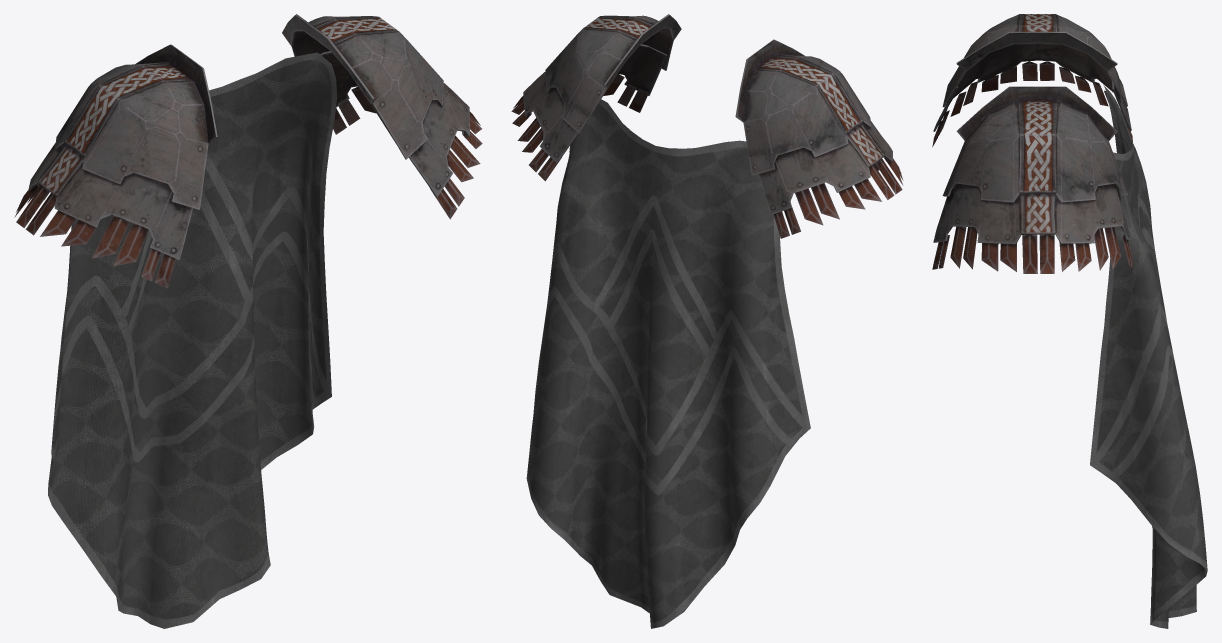
The model's file is sk_dwarf_iron_pauldron_elite_cape_a.fbx.
3 renders of one model, left to right at view 1: azimuth 30°, elevation 25°; view 2: azimuth 150°, elevation 25°; view 3: azimuth 270°, elevation 25°, orthographic. The views are drawn at different scales.
Parts seen in each view (by area): view 1: sk_dwarf_iron_pauldron_elite_cape_a.cape, sk_dwarf_iron_pauldron_elite_cape_a; view 2: sk_dwarf_iron_pauldron_elite_cape_a.cape, sk_dwarf_iron_pauldron_elite_cape_a; view 3: sk_dwarf_iron_pauldron_elite_cape_a, sk_dwarf_iron_pauldron_elite_cape_a.cape.
Part boxes in pixels (x1,y1,x2,y2): sk_dwarf_iron_pauldron_elite_cape_a.cape: [48, 52, 337, 628]; sk_dwarf_iron_pauldron_elite_cape_a: [14, 14, 482, 288]; sk_dwarf_iron_pauldron_elite_cape_a.cape: [526, 99, 810, 628]; sk_dwarf_iron_pauldron_elite_cape_a: [511, 14, 903, 238]; sk_dwarf_iron_pauldron_elite_cape_a: [932, 14, 1132, 273]; sk_dwarf_iron_pauldron_elite_cape_a.cape: [1090, 85, 1207, 628].
Size of the model in its own units: 0.7683 by 0.4631 by 1.05.
Materials: 2 (2 with a texture image).
